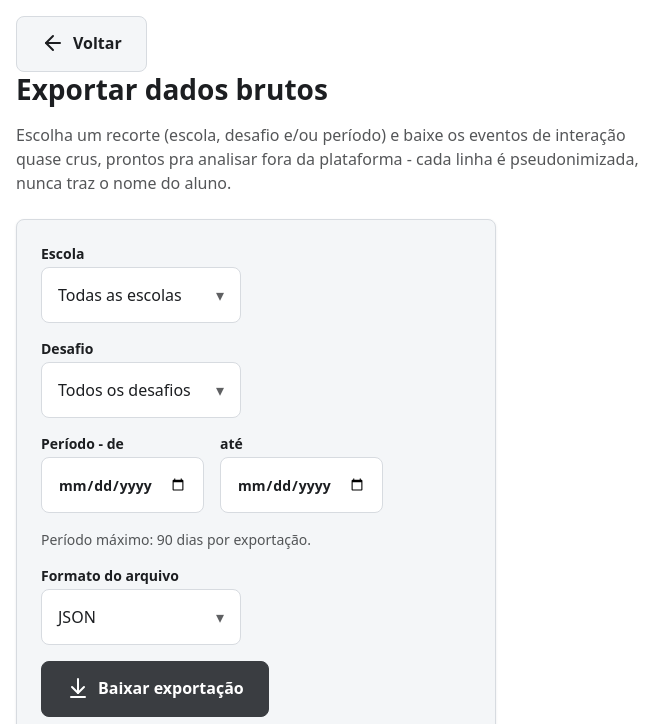
Scenario: AdminExport › requests a CSV export via getRaw (not get) and downloads the raw text as-is
What coordinates should you click on to do the following:
click the dropdown labelled "desafio"
I would click on:
 (141, 390)
Its box is x1=41 y1=362 x2=241 y2=418.
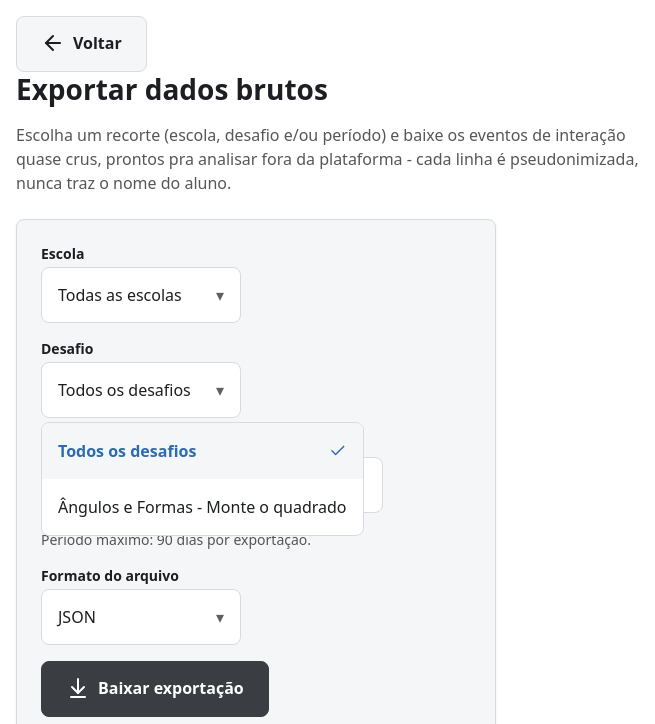
What coordinates should you click on to do the following:
click the option "Ângulos e Formas - Monte o quadrado"
I would click on:
 (202, 507)
Its box is x1=58 y1=496 x2=346 y2=518.
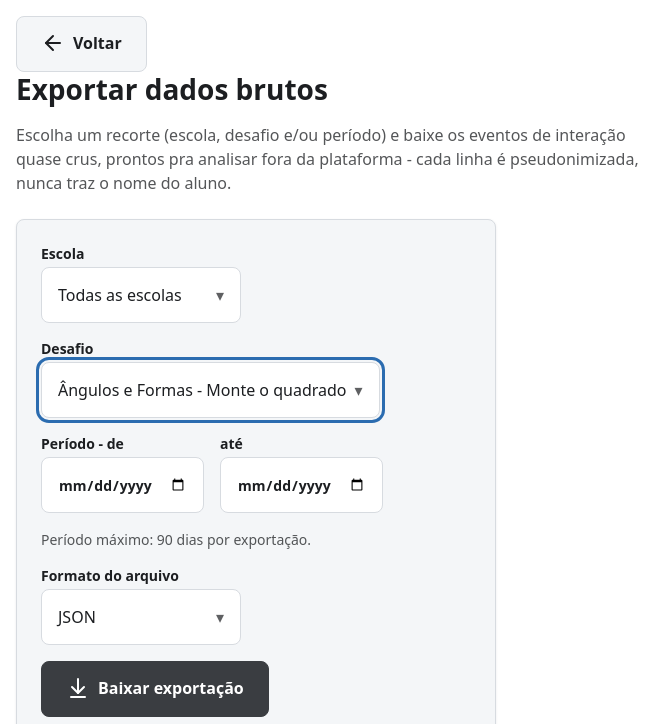
What coordinates should you click on to do the following:
click the dropdown named "Formato do arquivo"
I would click on:
 (141, 617)
Its box is x1=41 y1=589 x2=241 y2=645.
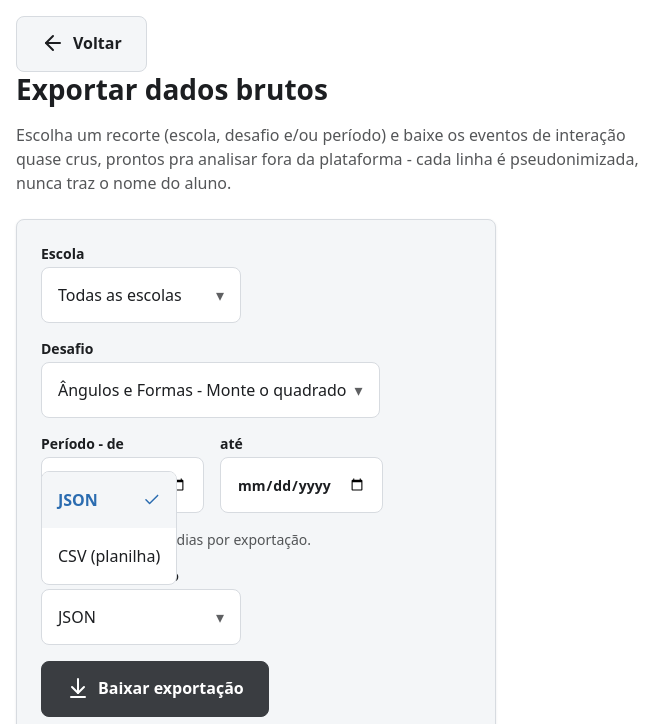
What coordinates should you click on to do the following:
click the option "CSV (planilha)"
I would click on:
 (109, 556)
Its box is x1=58 y1=545 x2=160 y2=567.
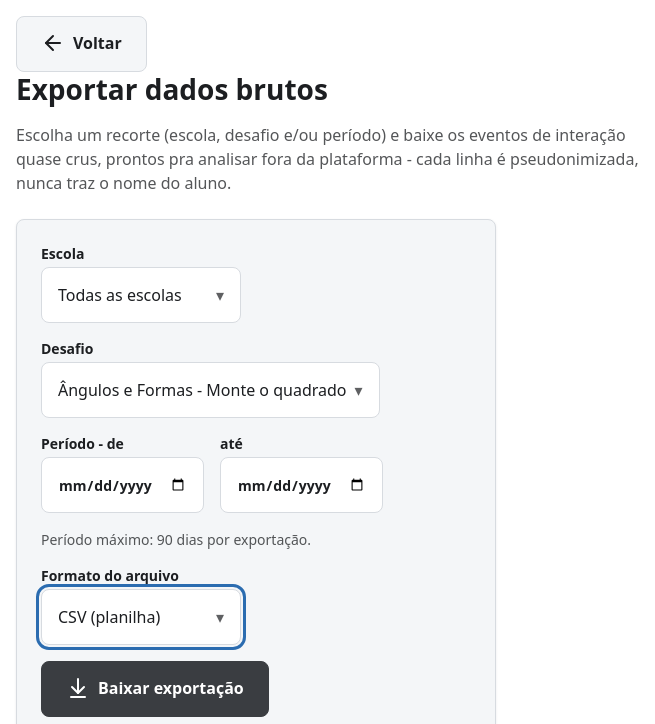
What coordinates should you click on to do the following:
click the button "Baixar exportação"
I would click on:
 (155, 689)
Its box is x1=41 y1=661 x2=269 y2=717.
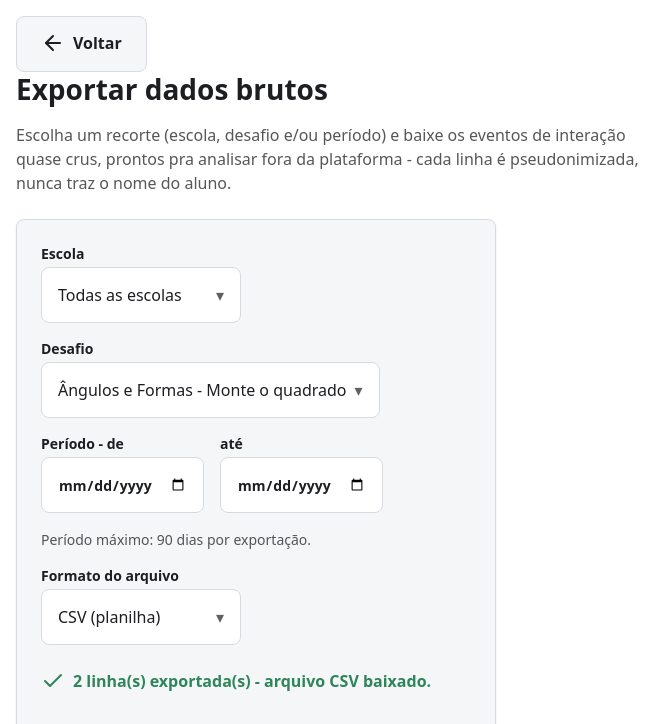
Check: the text "2 linha(s) exportada(s) - arquivo CSV baixado." is shown, box x1=73 y1=669 x2=431 y2=693
